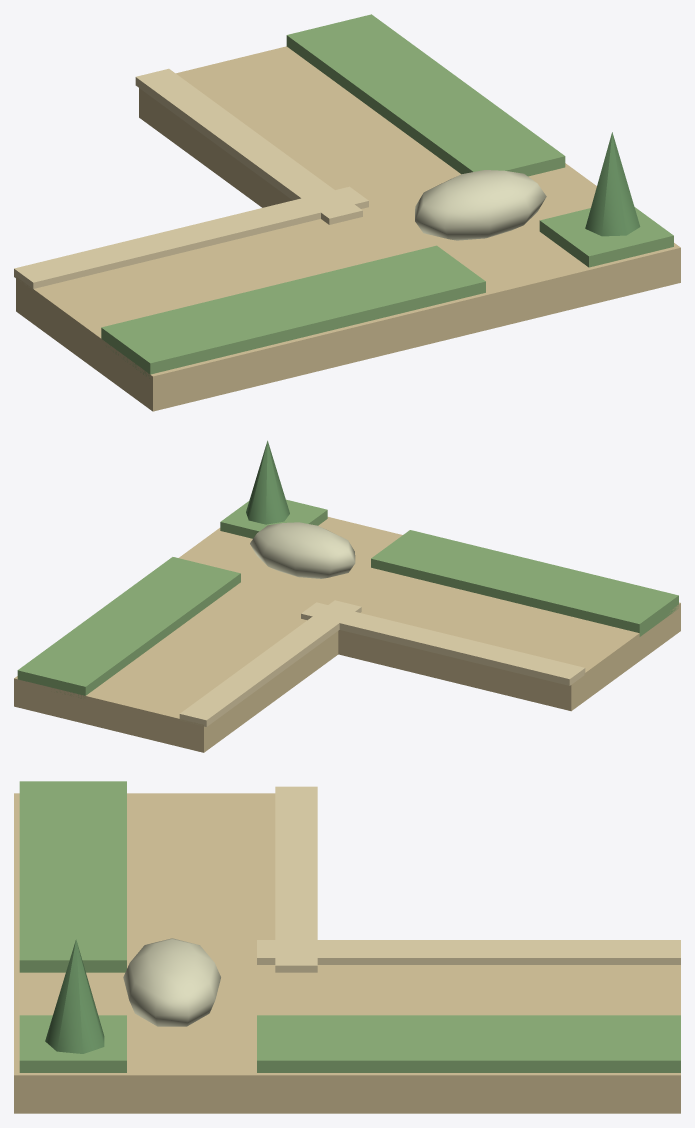
File: shore-corner.glb
3 renders of one model, top to bottom at view 1: azimuth 30°, elevation 25°; view 2: azimuth 150°, elevation 25°; view 3: azimuth 270°, elevation 25°, orthographic. The views are drawn at different scales.
Parts seen in each view (by area): view 1: shore-corner_sand, shore-corner_grass, shore-corner_sandLight, shore-corner_stoneLight, shore-corner_grassDark; view 2: shore-corner_sand, shore-corner_grass, shore-corner_sandLight, shore-corner_stoneLight, shore-corner_grassDark; view 3: shore-corner_sand, shore-corner_grass, shore-corner_sandLight, shore-corner_stoneLight, shore-corner_grassDark.
Part boxes in pixels (x1,y1,x2,y2): shore-corner_sand: (16,46,680,411); shore-corner_grass: (101,14,673,378); shore-corner_sandLight: (14,68,368,289); shore-corner_stoneLight: (415,170,546,240); shore-corner_grassDark: (585,132,640,236); shore-corner_sand: (14,517,680,752); shore-corner_grass: (17,499,678,698); shore-corner_sandLight: (179,600,585,726); shore-corner_stoneLight: (250,522,355,578); shore-corner_grassDark: (246,440,289,524); shore-corner_sand: (14,793,680,1113); shore-corner_grass: (19,781,680,1072); shore-corner_sandLight: (257,786,680,972); shore-corner_stoneLight: (123,938,220,1026); shore-corner_grassDark: (45,939,104,1053).
Size of the model in its own units: 1.18 by 0.2995 by 1.18.
